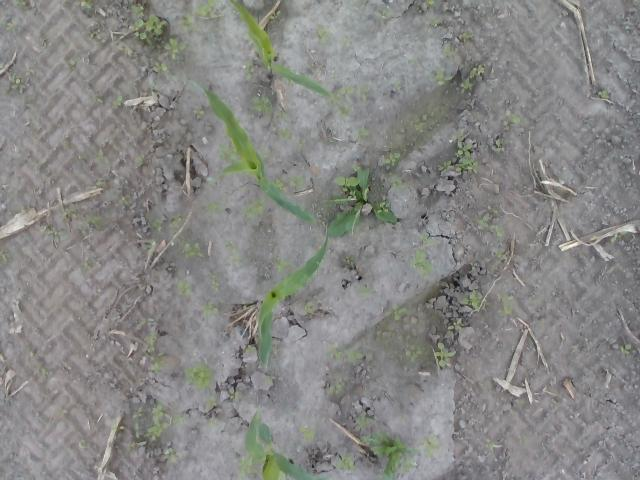Maize: (170, 75, 322, 225), (256, 225, 331, 373), (228, 0, 336, 101), (244, 411, 334, 480)
Weeds: (320, 164, 399, 240), (354, 433, 420, 480), (128, 3, 168, 46), (143, 404, 171, 441), (326, 86, 354, 122), (1, 69, 34, 94), (184, 364, 214, 390), (410, 249, 434, 279), (450, 128, 472, 158), (460, 290, 490, 312), (434, 342, 456, 368), (225, 238, 244, 268), (162, 37, 185, 61), (236, 455, 259, 477), (194, 0, 218, 21), (217, 142, 238, 166), (40, 225, 68, 243), (428, 68, 454, 87), (242, 198, 266, 218), (334, 452, 358, 472), (250, 94, 272, 115), (421, 434, 442, 456), (170, 212, 186, 240), (177, 12, 199, 32), (384, 304, 408, 322), (313, 25, 333, 45), (81, 214, 102, 233), (150, 352, 168, 373), (496, 293, 514, 314), (184, 243, 205, 260), (354, 410, 373, 428), (454, 158, 478, 172), (404, 344, 422, 362), (345, 345, 363, 362), (326, 378, 344, 395), (298, 424, 316, 441), (502, 109, 520, 126), (163, 447, 182, 463), (273, 258, 292, 274), (325, 343, 344, 359), (176, 280, 194, 296), (202, 300, 220, 316), (144, 330, 156, 354), (410, 118, 428, 134), (356, 84, 372, 101), (60, 208, 78, 223), (208, 270, 220, 292), (243, 60, 256, 80), (422, 14, 442, 27), (289, 174, 305, 190), (354, 126, 370, 142), (270, 178, 288, 192), (389, 176, 407, 190), (301, 300, 316, 316), (374, 9, 394, 21), (384, 152, 401, 166), (610, 229, 628, 242), (125, 442, 146, 453), (276, 126, 292, 140), (492, 246, 508, 260), (469, 64, 485, 78), (442, 44, 458, 58), (116, 44, 134, 56), (0, 18, 15, 32), (73, 0, 94, 10), (357, 286, 372, 300), (146, 238, 159, 254), (94, 150, 108, 164), (476, 214, 488, 230), (460, 78, 472, 94), (112, 94, 125, 108), (489, 224, 503, 237), (110, 419, 125, 431), (486, 204, 501, 216), (152, 216, 163, 232), (92, 91, 105, 104), (153, 61, 167, 73), (135, 153, 147, 167), (118, 194, 132, 206), (172, 414, 186, 426), (484, 438, 496, 452), (448, 318, 462, 330), (418, 234, 434, 244), (205, 202, 218, 214), (89, 28, 102, 40), (148, 80, 156, 98), (437, 160, 451, 170), (596, 89, 610, 99), (259, 147, 271, 158), (206, 396, 217, 408), (206, 418, 217, 430), (228, 389, 240, 400), (620, 343, 632, 354), (458, 32, 474, 40), (138, 318, 154, 326), (422, 0, 436, 9), (132, 407, 143, 418), (269, 10, 281, 20), (67, 59, 77, 71), (276, 109, 287, 119), (37, 366, 48, 376), (244, 344, 256, 353), (494, 140, 503, 152), (192, 108, 205, 116), (95, 180, 108, 188), (284, 77, 294, 87), (134, 422, 140, 438), (14, 0, 27, 7), (296, 139, 306, 148), (266, 375, 276, 384), (82, 260, 92, 269), (345, 255, 354, 264), (0, 250, 7, 261), (469, 262, 478, 270), (342, 38, 351, 46), (242, 299, 249, 309), (411, 58, 419, 65), (402, 414, 408, 423), (396, 82, 402, 90)
